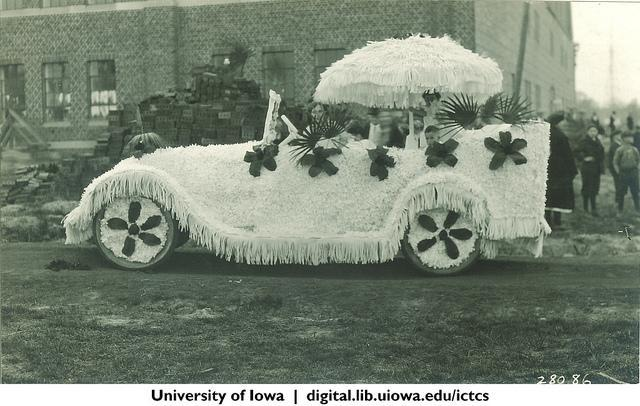car: (62, 32, 555, 275)
